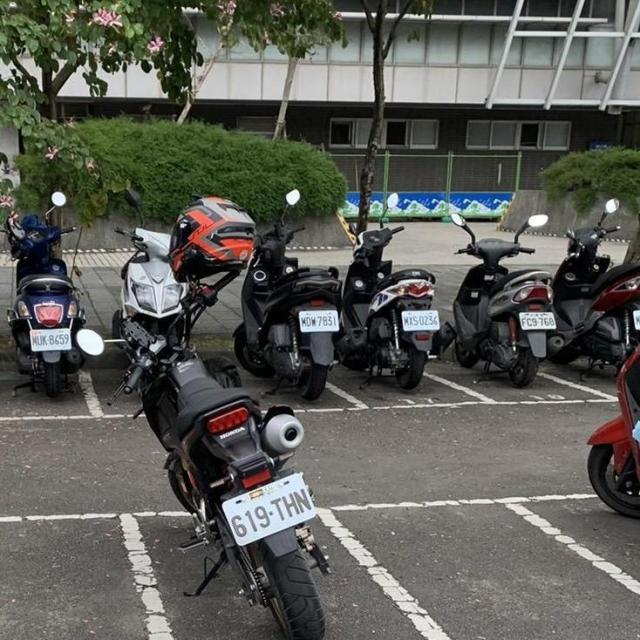W: (218, 471, 320, 547), (22, 323, 76, 354), (293, 305, 345, 337), (395, 305, 446, 336), (514, 308, 560, 335), (624, 301, 640, 335)
